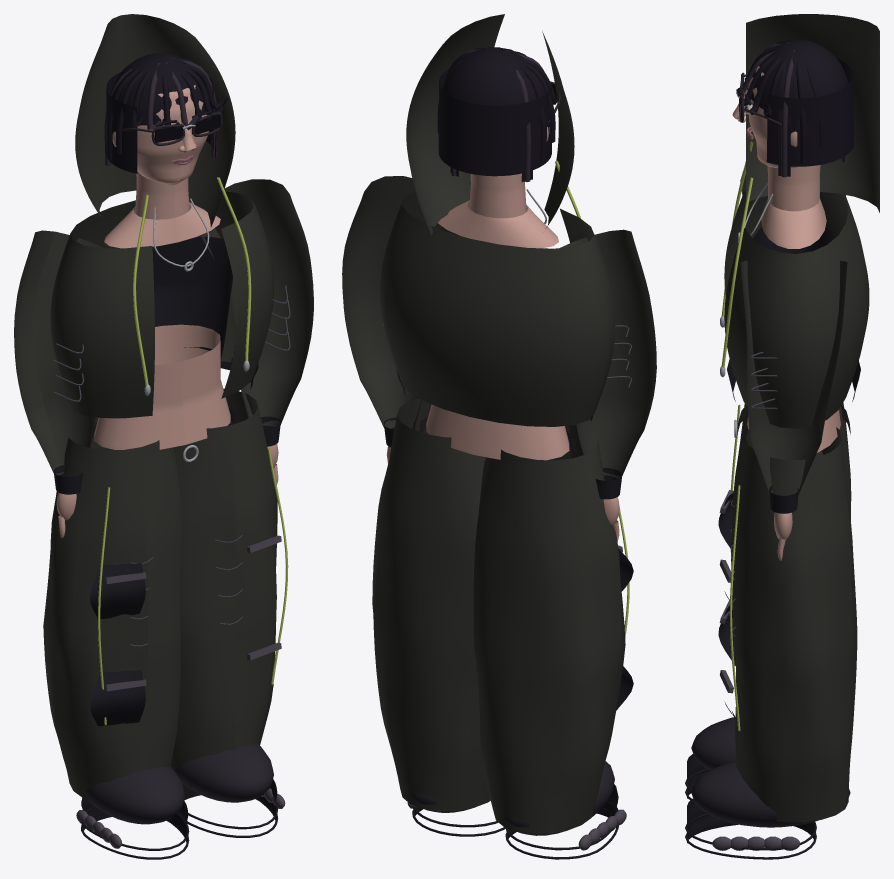
File: look-3-crowd.glb
3 views of the same model, side by side, from view 1: azimuth 30°, elevation 25°; view 2: azimuth 150°, elevation 25°; view 3: azimuth 270°, elevation 25° (orthographic). The views are drawn at different scales.
Parts seen in each view (by area): view 1: look-3-crowd, leg-0, leg-1, arm-1, arm-0; view 2: look-3-crowd, leg-0, leg-1, arm-0, arm-1; view 3: look-3-crowd, leg-1, arm-1, leg-0.
Boxes of the visible parts, left/top/right/bottom form: look-3-crowd: left=50, top=14, right=274, bottom=461; leg-0: left=43, top=417, right=189, bottom=859; leg-1: left=170, top=388, right=288, bottom=837; arm-1: left=200, top=179, right=313, bottom=484; arm-0: left=14, top=230, right=103, bottom=537; look-3-crowd: left=380, top=14, right=615, bottom=460; leg-0: left=473, top=425, right=633, bottom=859; leg-1: left=372, top=398, right=505, bottom=836; arm-0: left=560, top=229, right=656, bottom=541; arm-1: left=342, top=176, right=457, bottom=463; look-3-crowd: left=720, top=14, right=879, bottom=452; leg-1: left=685, top=427, right=857, bottom=859; arm-1: left=740, top=260, right=847, bottom=560; leg-0: left=685, top=402, right=851, bottom=800.
Size of the model in its own units: 0.8162 by 2.08 by 0.4647.
